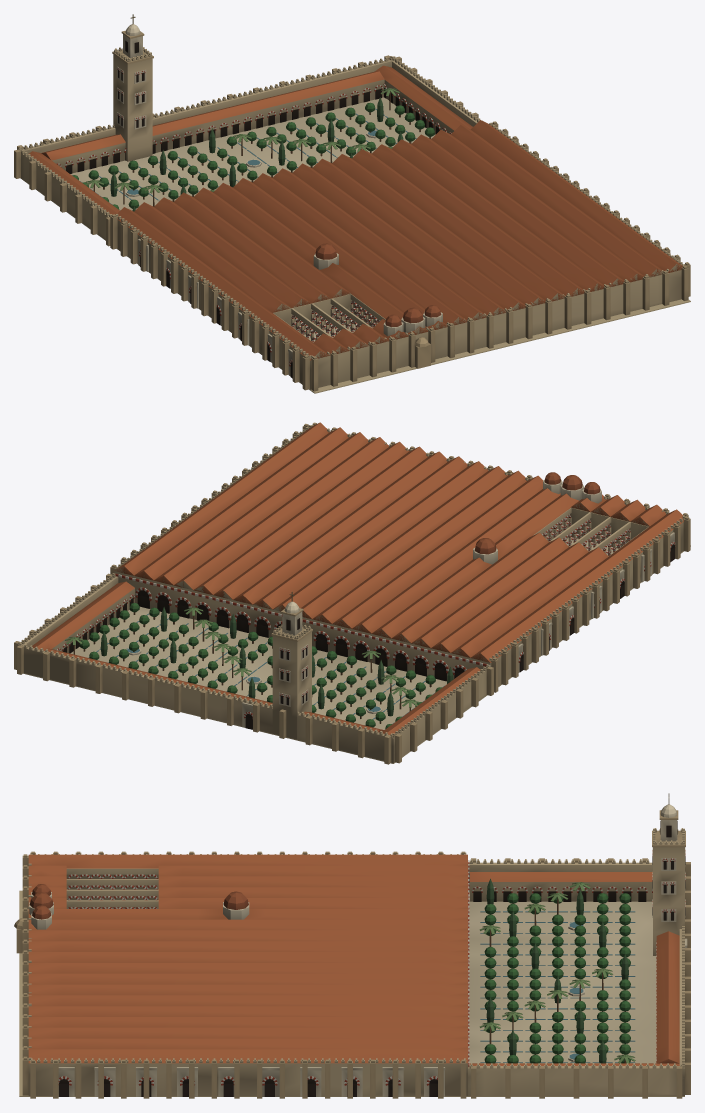
Rendered from mezquita-1300.glb.
The picture shows the model from 3 angles, top to bottom: view 1: azimuth 30°, elevation 25°; view 2: azimuth 150°, elevation 25°; view 3: azimuth 270°, elevation 25°; orthographic projection. The views are drawn at different scales.
Visible parts, largest first — view 1: p1_hall, p2_tower, p0_ground; view 2: p1_hall, p2_tower, p0_ground; view 3: p1_hall, p2_tower, p0_ground.
Boxes of the visible parts, bbox=[...] form: p1_hall: bbox=[14, 55, 690, 391]; p2_tower: bbox=[112, 14, 442, 336]; p0_ground: bbox=[20, 178, 690, 393]; p1_hall: bbox=[14, 422, 690, 764]; p2_tower: bbox=[271, 472, 601, 739]; p0_ground: bbox=[23, 537, 690, 763]; p1_hall: bbox=[14, 851, 690, 1098]; p2_tower: bbox=[29, 793, 685, 955]; p0_ground: bbox=[19, 890, 684, 1096].
Size of the model in its own units: 133 by 46.4 by 181.
